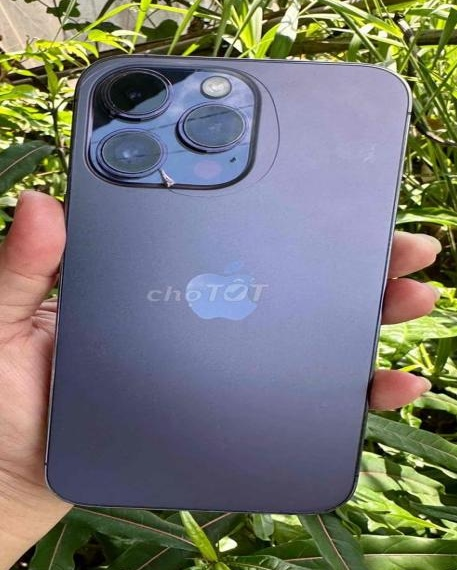scratch: (231, 66, 304, 136), (234, 134, 295, 198), (148, 178, 267, 206)
